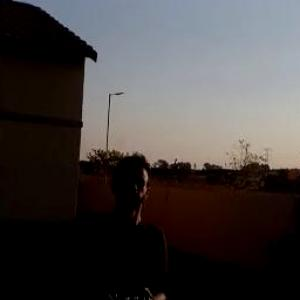follow: (58, 149, 176, 299)
